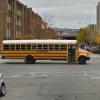Bus: (2, 32, 90, 64)
